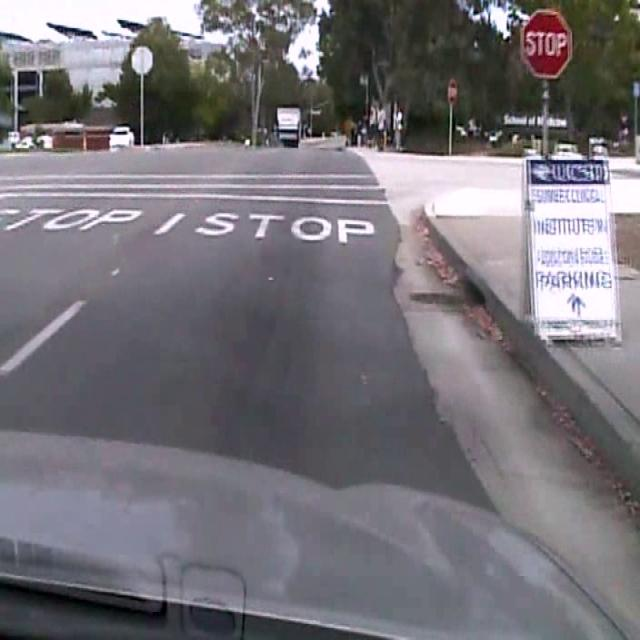stop_sign: (520, 8, 572, 77)
